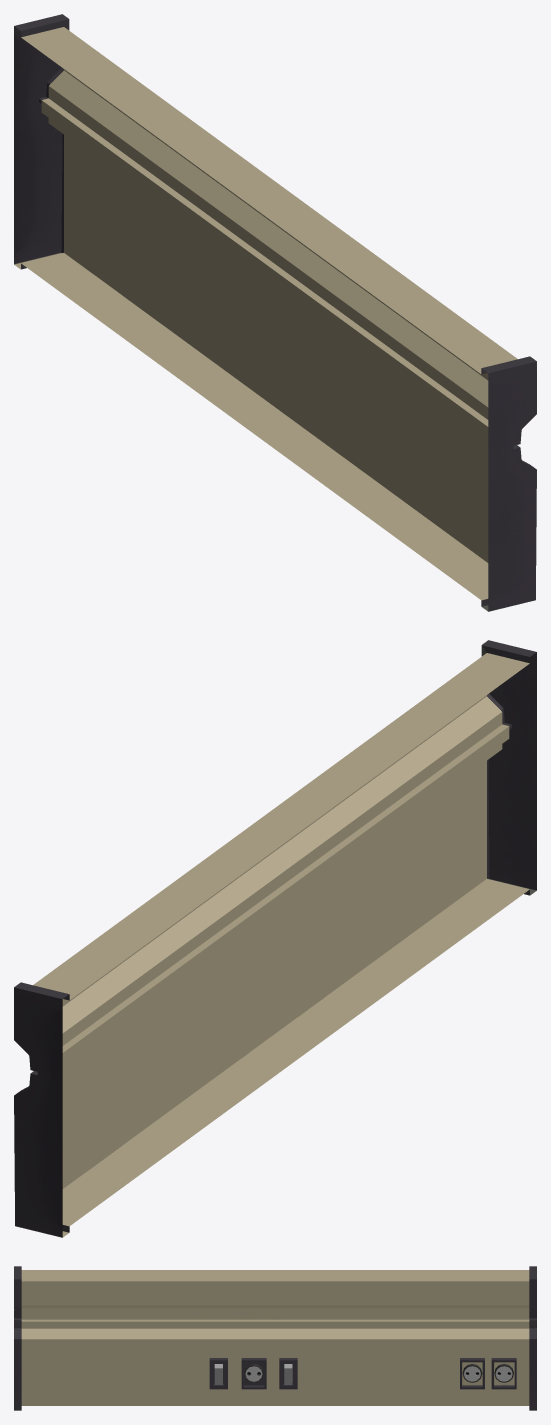
Rendered from electric_system.fbx.
3 views of the same model, one above another, from view 1: azimuth 30°, elevation 25°; view 2: azimuth 150°, elevation 25°; view 3: azimuth 270°, elevation 25° (orthographic). The views are drawn at different scales.
Visible parts, largest first — view 1: ElectricSystm-material; view 2: ElectricSystm-material; view 3: ElectricSystm-material.
Boxes of the visible parts, <box> form: ElectricSystm-material: <box>14,14,536,611</box>; ElectricSystm-material: <box>14,640,536,1237</box>; ElectricSystm-material: <box>14,1266,536,1410</box>.
Bounding box in the file's own units: 1.38 × 5 × 18.03.
1 material, 1 textured.
